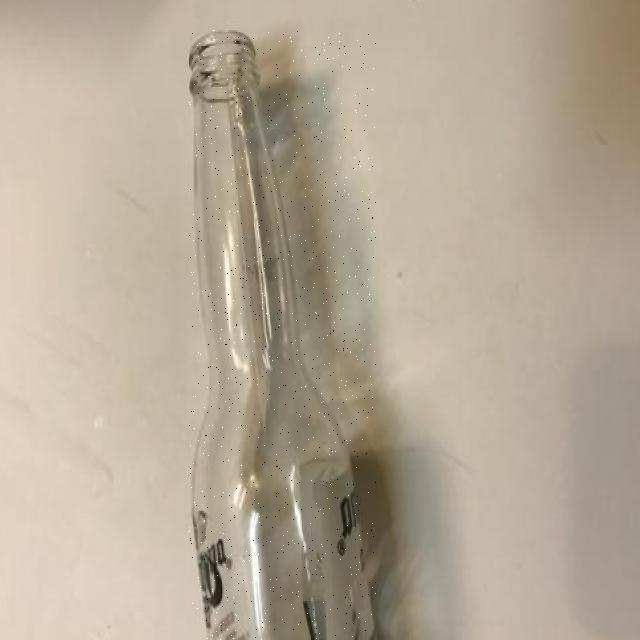glass: (190, 29, 376, 640)
